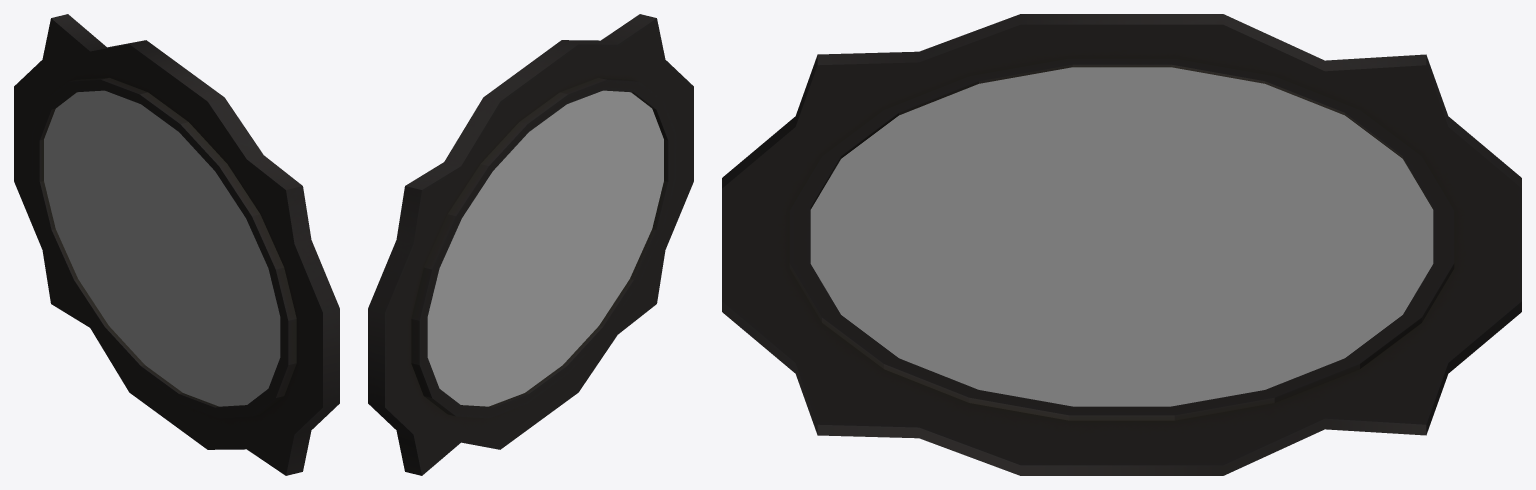
Rendered from SM_Round_Mirror.fbx.
The picture shows the model from 3 angles, left to right: view 1: azimuth 30°, elevation 25°; view 2: azimuth 150°, elevation 25°; view 3: azimuth 270°, elevation 25°; orthographic projection. The views are drawn at different scales.
Parts seen in each view (by area): view 1: SM_Round_Mirror; view 2: SM_Round_Mirror; view 3: SM_Round_Mirror.
Boxes of the visible parts, x1,y1,x2,y2 form: SM_Round_Mirror: (14, 14, 339, 475); SM_Round_Mirror: (368, 14, 693, 475); SM_Round_Mirror: (722, 14, 1521, 475).
Bounding box in the file's own units: 3.03 × 63.44 × 39.49.
1 material, 1 textured.
